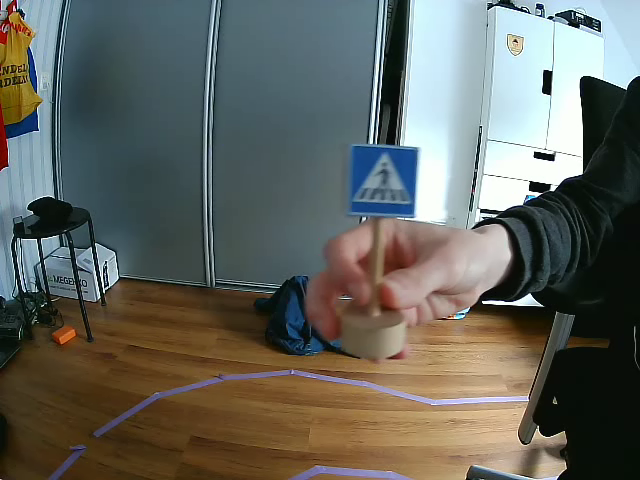zebrapad: (349, 147, 420, 213)
